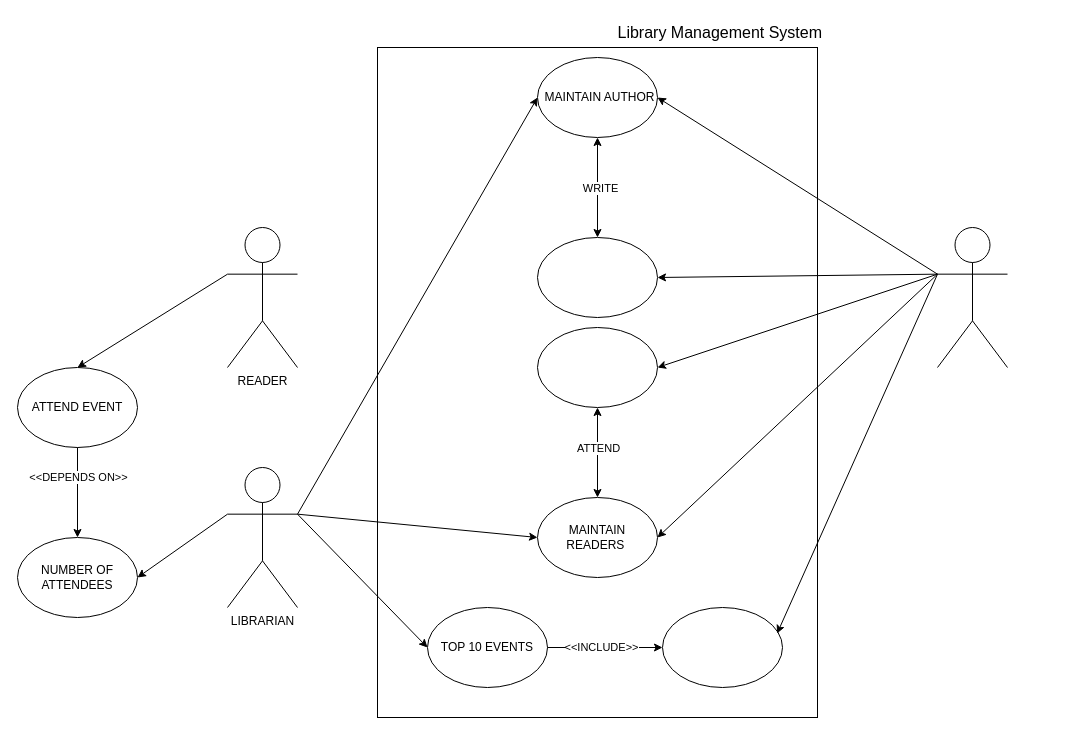
Image size: 1065x735. Some labels were removed from this diagram. The centre of each missing label's shape, as x and y in pixels:
MAINTAIN BOOKS: (x=597, y=277)
MAINTAIN EVENTS: (x=597, y=367)
REQUEST REPORTS: (x=722, y=647)
SYSTEM ADMINISTRATOR: (x=972, y=297)
